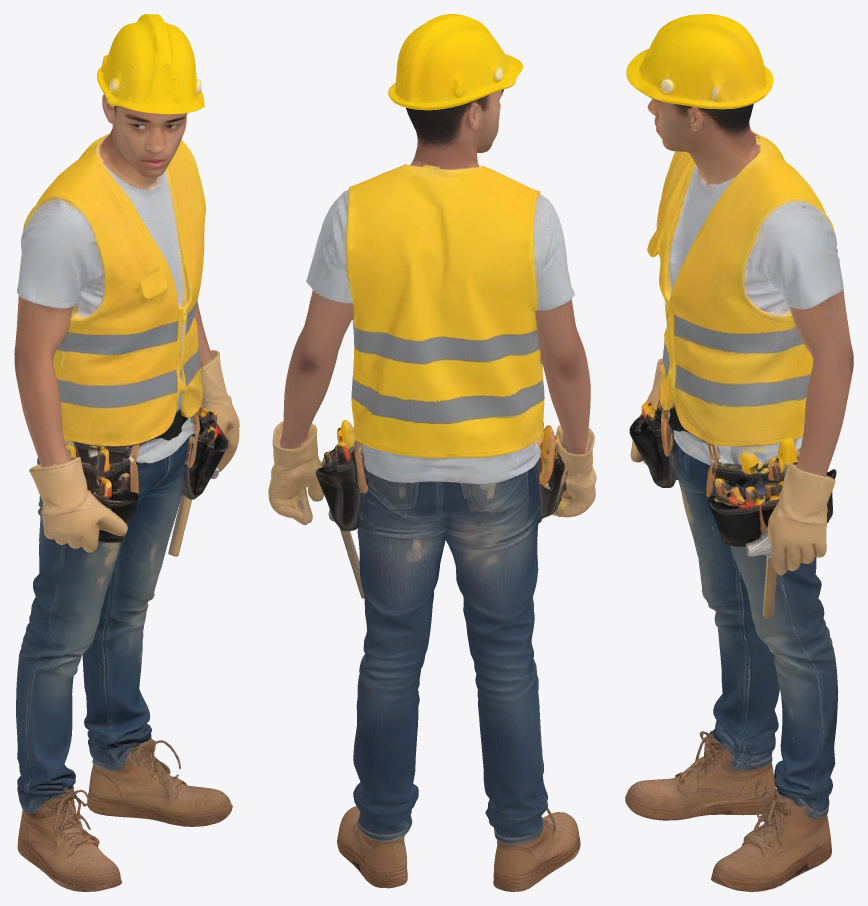
The model's file is worker-vest-tool-belt.glb.
3 views of the same model, side by side, from view 1: azimuth 30°, elevation 25°; view 2: azimuth 150°, elevation 25°; view 3: azimuth 270°, elevation 25° (orthographic).
Parts seen in each view (by area): view 1: Object_7, Object_5, Object_6; view 2: Object_6, Object_7, Object_5; view 3: Object_6, Object_7, Object_5.
Boxes of the visible parts, <box> form: Object_7: <box>14,14,232,881</box>; Object_5: <box>16,43,239,891</box>; Object_6: <box>17,128,239,860</box>; Object_6: <box>268,139,554,891</box>; Object_7: <box>334,14,594,873</box>; Object_5: <box>298,36,596,881</box>; Object_6: <box>729,122,853,885</box>; Object_7: <box>648,14,775,891</box>; Object_5: <box>625,41,832,891</box>.
Bounding box in the file's own units: 0.6269 × 1.9 × 0.4689.
1 material, 1 textured.
